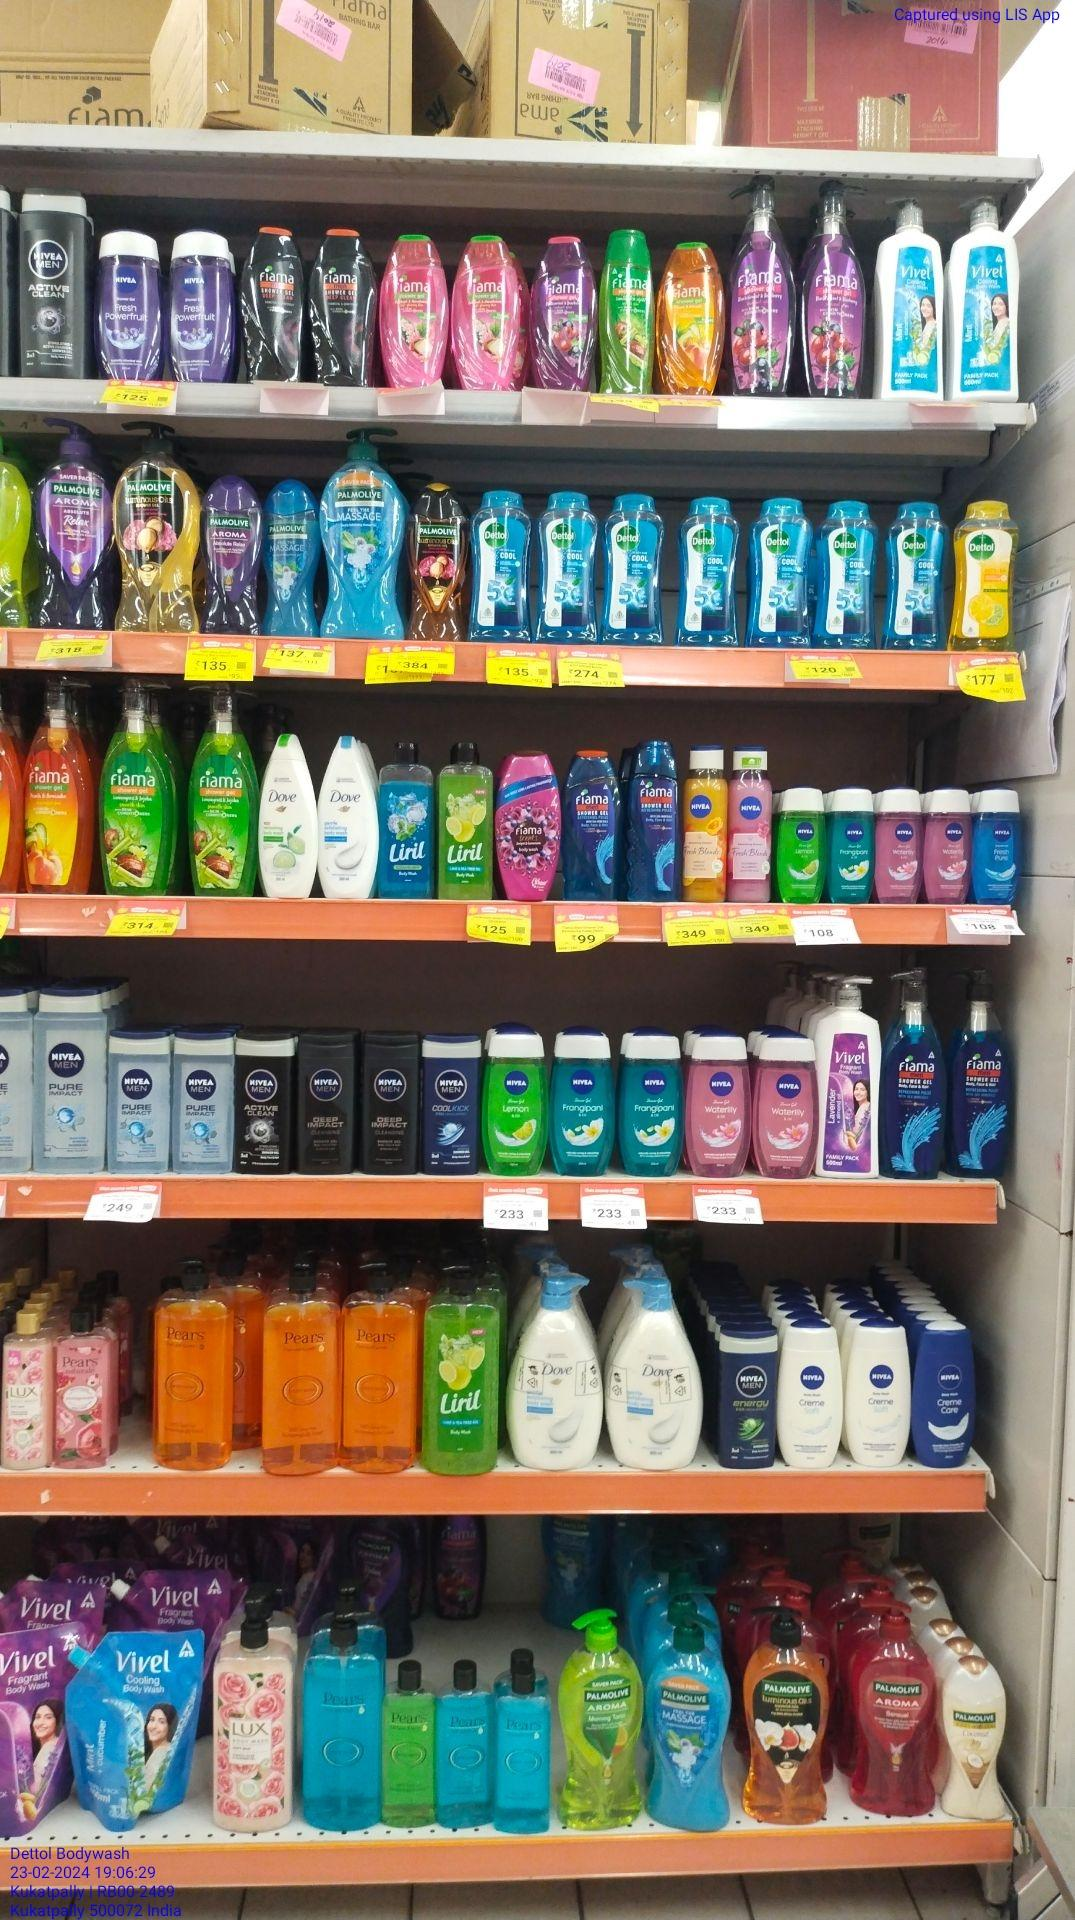Dettol_Bodywash_Cool: (601, 495, 667, 645), (675, 497, 741, 645), (882, 502, 948, 649), (749, 497, 814, 646), (538, 491, 600, 640), (815, 497, 876, 649), (475, 491, 534, 640)
Dettol_Bodywash_Refresh: (954, 500, 1018, 650)
Dove_Gentle_Exfoliating_Body_Wash_250ML: (323, 737, 375, 898)
Dove_Refreshing_Body_Wash_250ML: (260, 735, 319, 899)
Fiama_Shower_Gel_Lemongrass_and_Jojoba_250ML: (600, 228, 654, 394)
Fiama_Shower_Gel_Patchouli_and_Macadamia_250ML: (451, 231, 522, 390), (383, 236, 447, 388)
Fiama_Shower_Gel_Peach_and_Avocado_250ML: (660, 244, 722, 396)
Liril_Cooling_Mint_Body_Wash_250ML: (377, 740, 435, 897)
Liril_Lime_and_Tea_Tree_Oil_Body_Wash_250ML: (426, 1265, 503, 1477), (438, 740, 496, 902)
Nivea_Creme_Care_Body_Wash_250ML: (914, 1331, 977, 1464)
Nivea_Creme_Soft_Body_Wash_250ML: (778, 1323, 843, 1469), (847, 1320, 909, 1469)
Nivea_Shower_Gel_Frangipani_and_Oil_250ML: (549, 1034, 616, 1175), (620, 1035, 683, 1174), (826, 791, 876, 903)
Nivea_Shower_Gel_Fresh_Powerfruit_250ML: (96, 233, 168, 380), (170, 232, 235, 381)
Nivea_Shower_Gel_Lemon_and_Oil_250ML: (483, 1034, 549, 1175), (776, 787, 823, 905)
Nivea_Shower_Gel_Waterlily_and_Oil_250ML: (686, 1039, 751, 1176), (757, 1039, 819, 1178), (878, 791, 925, 903), (927, 790, 971, 902)
Palmolive_Aroma_Moments_Feel_The_Massage_Shower_Gel_250ML: (262, 481, 319, 637)
Palmolive_Aroma_Relax_250ML: (204, 477, 259, 634)
Palmolive_Coconut_Joy_Exfoliating_Body_Wash_250ML: (943, 1665, 1009, 1822)
Palmolive_Luminous_Oils_Invigorating_Macadamia_Oil_With_Peony_250ML: (408, 485, 468, 640)
Pears_Pure_Glycerin_and_Lemon_Flower_Extracts_Body_Wash_250ML: (383, 1667, 437, 1828)
Pears_Pure_Glycerin_and_Mint_Extracts_Body_Wash_250ML: (496, 1668, 554, 1833), (442, 1665, 495, 1829)
